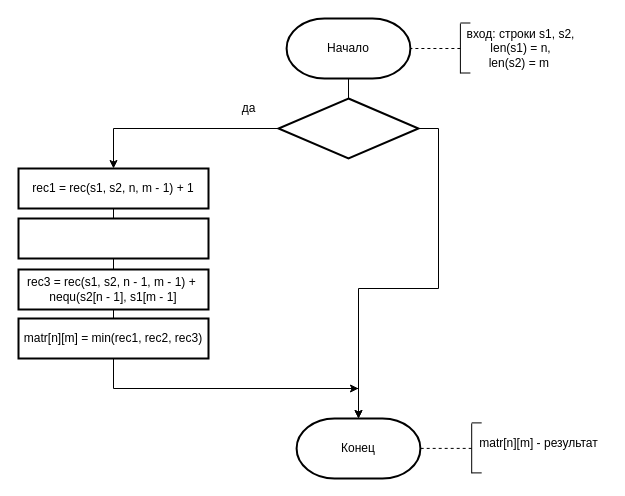
The diagram is 625 pixels wide and 496 high, and some of its shapes have lost their labels. The centre of each missing label's shape, as x and y in pixels:
"matr[n][m] = -1" belongs at (348,128).
"rec2 = rec(s1, s2, n - 1, m) + 1" belongs at (113,238).
